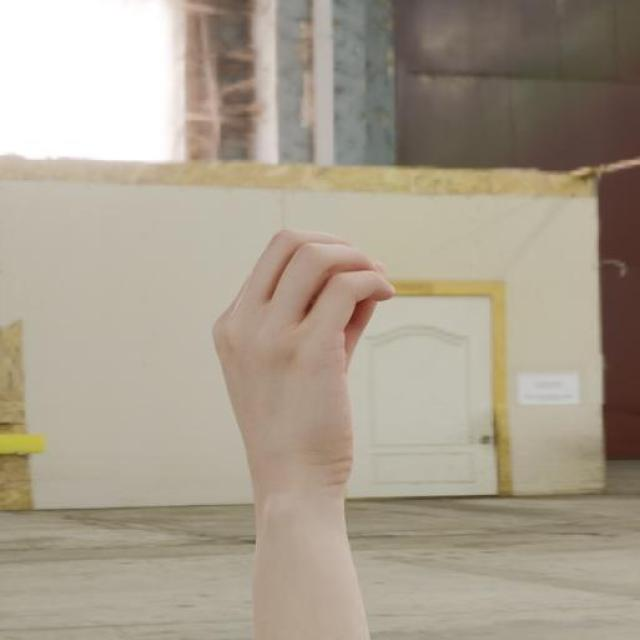O: (206, 225, 398, 526)
